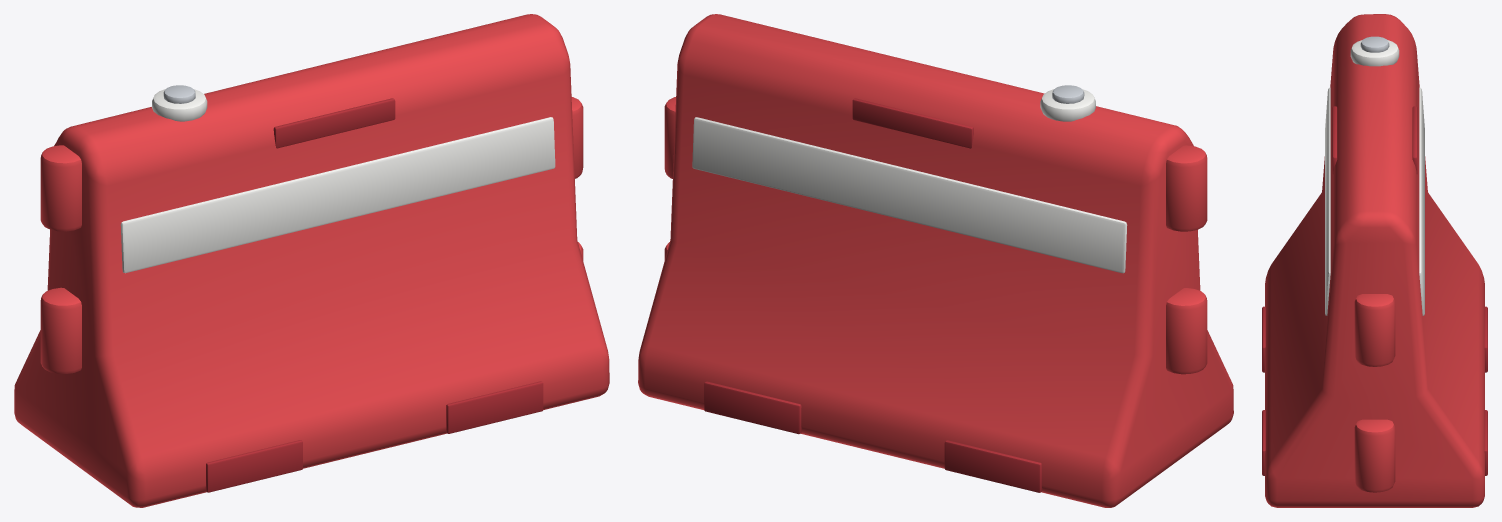
File: barreira_plastica.glb
3 renders of one model, left to right at view 1: azimuth 30°, elevation 25°; view 2: azimuth 150°, elevation 25°; view 3: azimuth 270°, elevation 25°, orthographic. The views are drawn at different scales.
Parts seen in each view (by area): view 1: barreira_plastica; view 2: barreira_plastica; view 3: barreira_plastica.
Boxes of the visible parts, left/top/right/bottom form: barreira_plastica: left=14, top=14, right=609, bottom=507; barreira_plastica: left=638, top=14, right=1233, bottom=507; barreira_plastica: left=1262, top=14, right=1487, bottom=507.
Size of the model in its own units: 1.34 by 0.84 by 0.554.
Materials: 1 (1 with a texture image).
